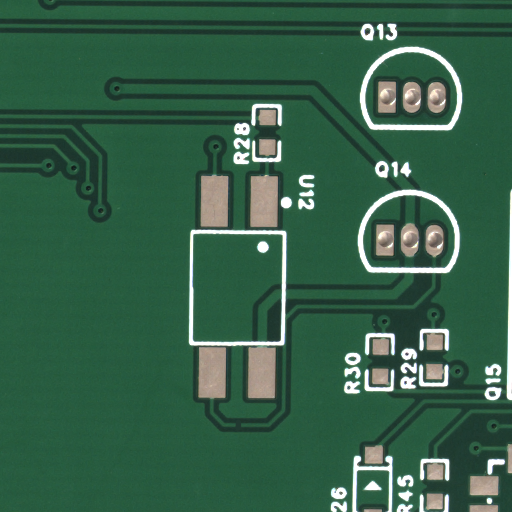Open_circuit: (238, 422, 246, 431)
